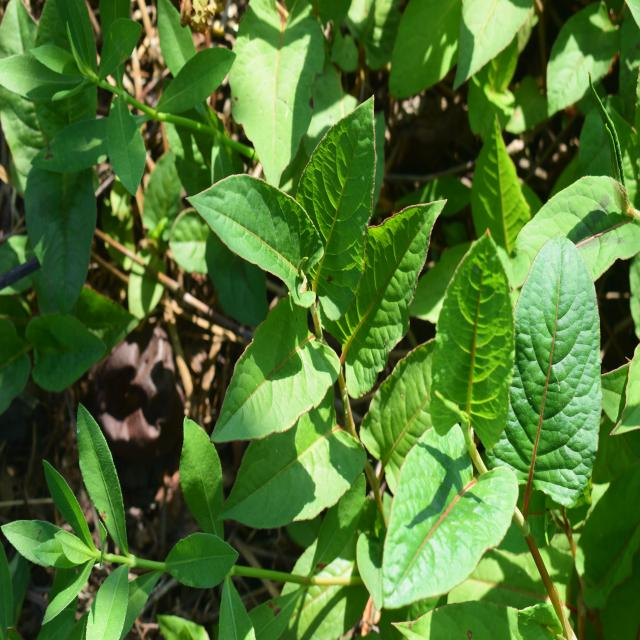Chinese_knotweed: (386, 241, 596, 610), (200, 118, 426, 450)
